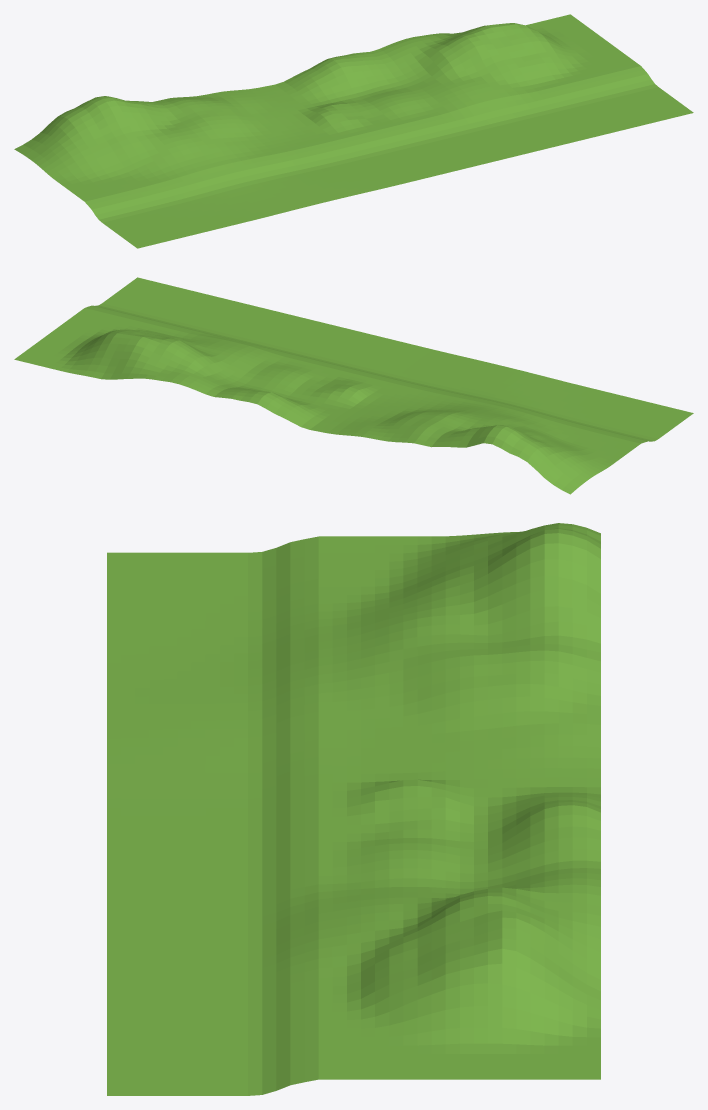
The model's file is new-terrain_02.fbx.
3 views of the same model, one above another, from view 1: azimuth 30°, elevation 25°; view 2: azimuth 150°, elevation 25°; view 3: azimuth 270°, elevation 25° (orthographic). The views are drawn at different scales.
Parts seen in each view (by area): view 1: pPlane136; view 2: pPlane136; view 3: pPlane136.
Boxes of the visible parts, x1,y1,x2,y2 form: pPlane136: (14, 14, 693, 248); pPlane136: (14, 277, 693, 494); pPlane136: (107, 523, 600, 1095).
Bounding box in the file's own units: 6560 × 541 × 2521.
1 material, 1 textured.
